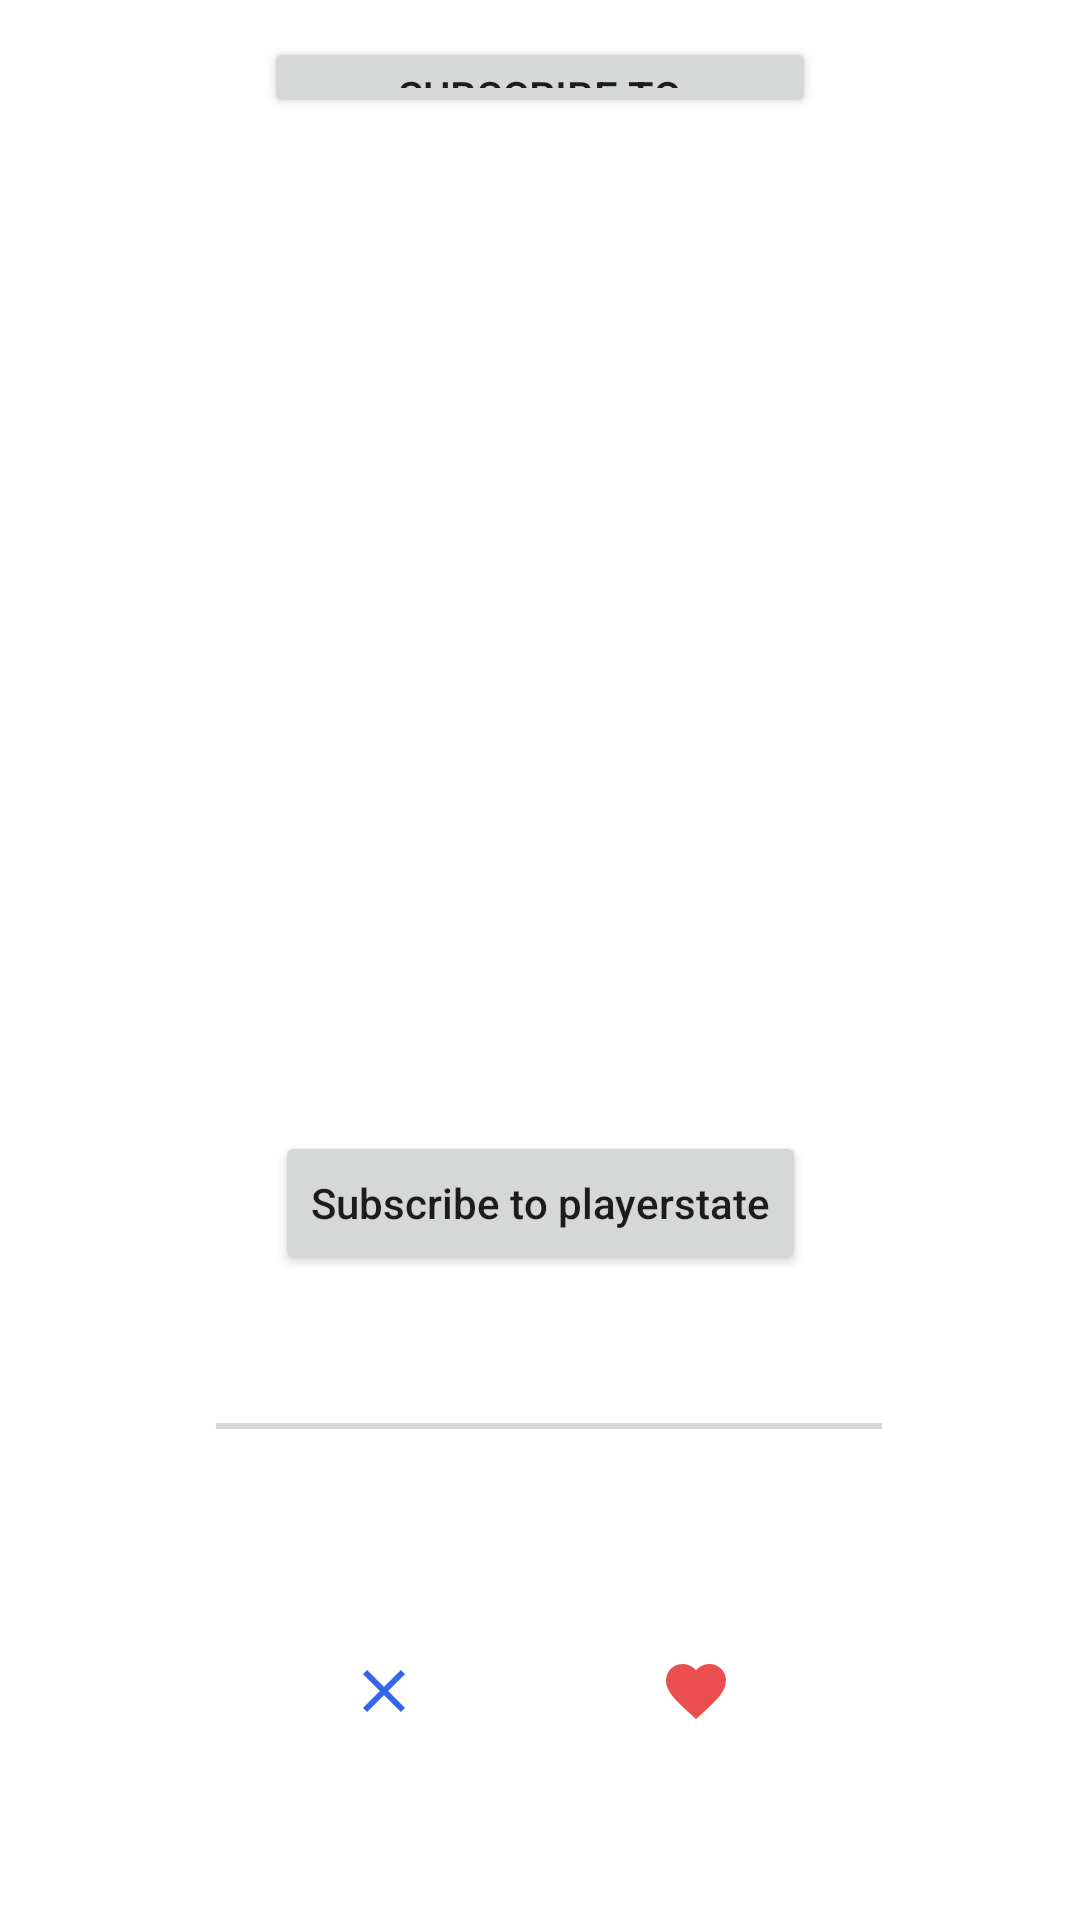

Icons on this 1080 × 1920 Android screen, each with the point to tap as point (x, y):
dislike: point (384, 1691)
like: point (696, 1691)
